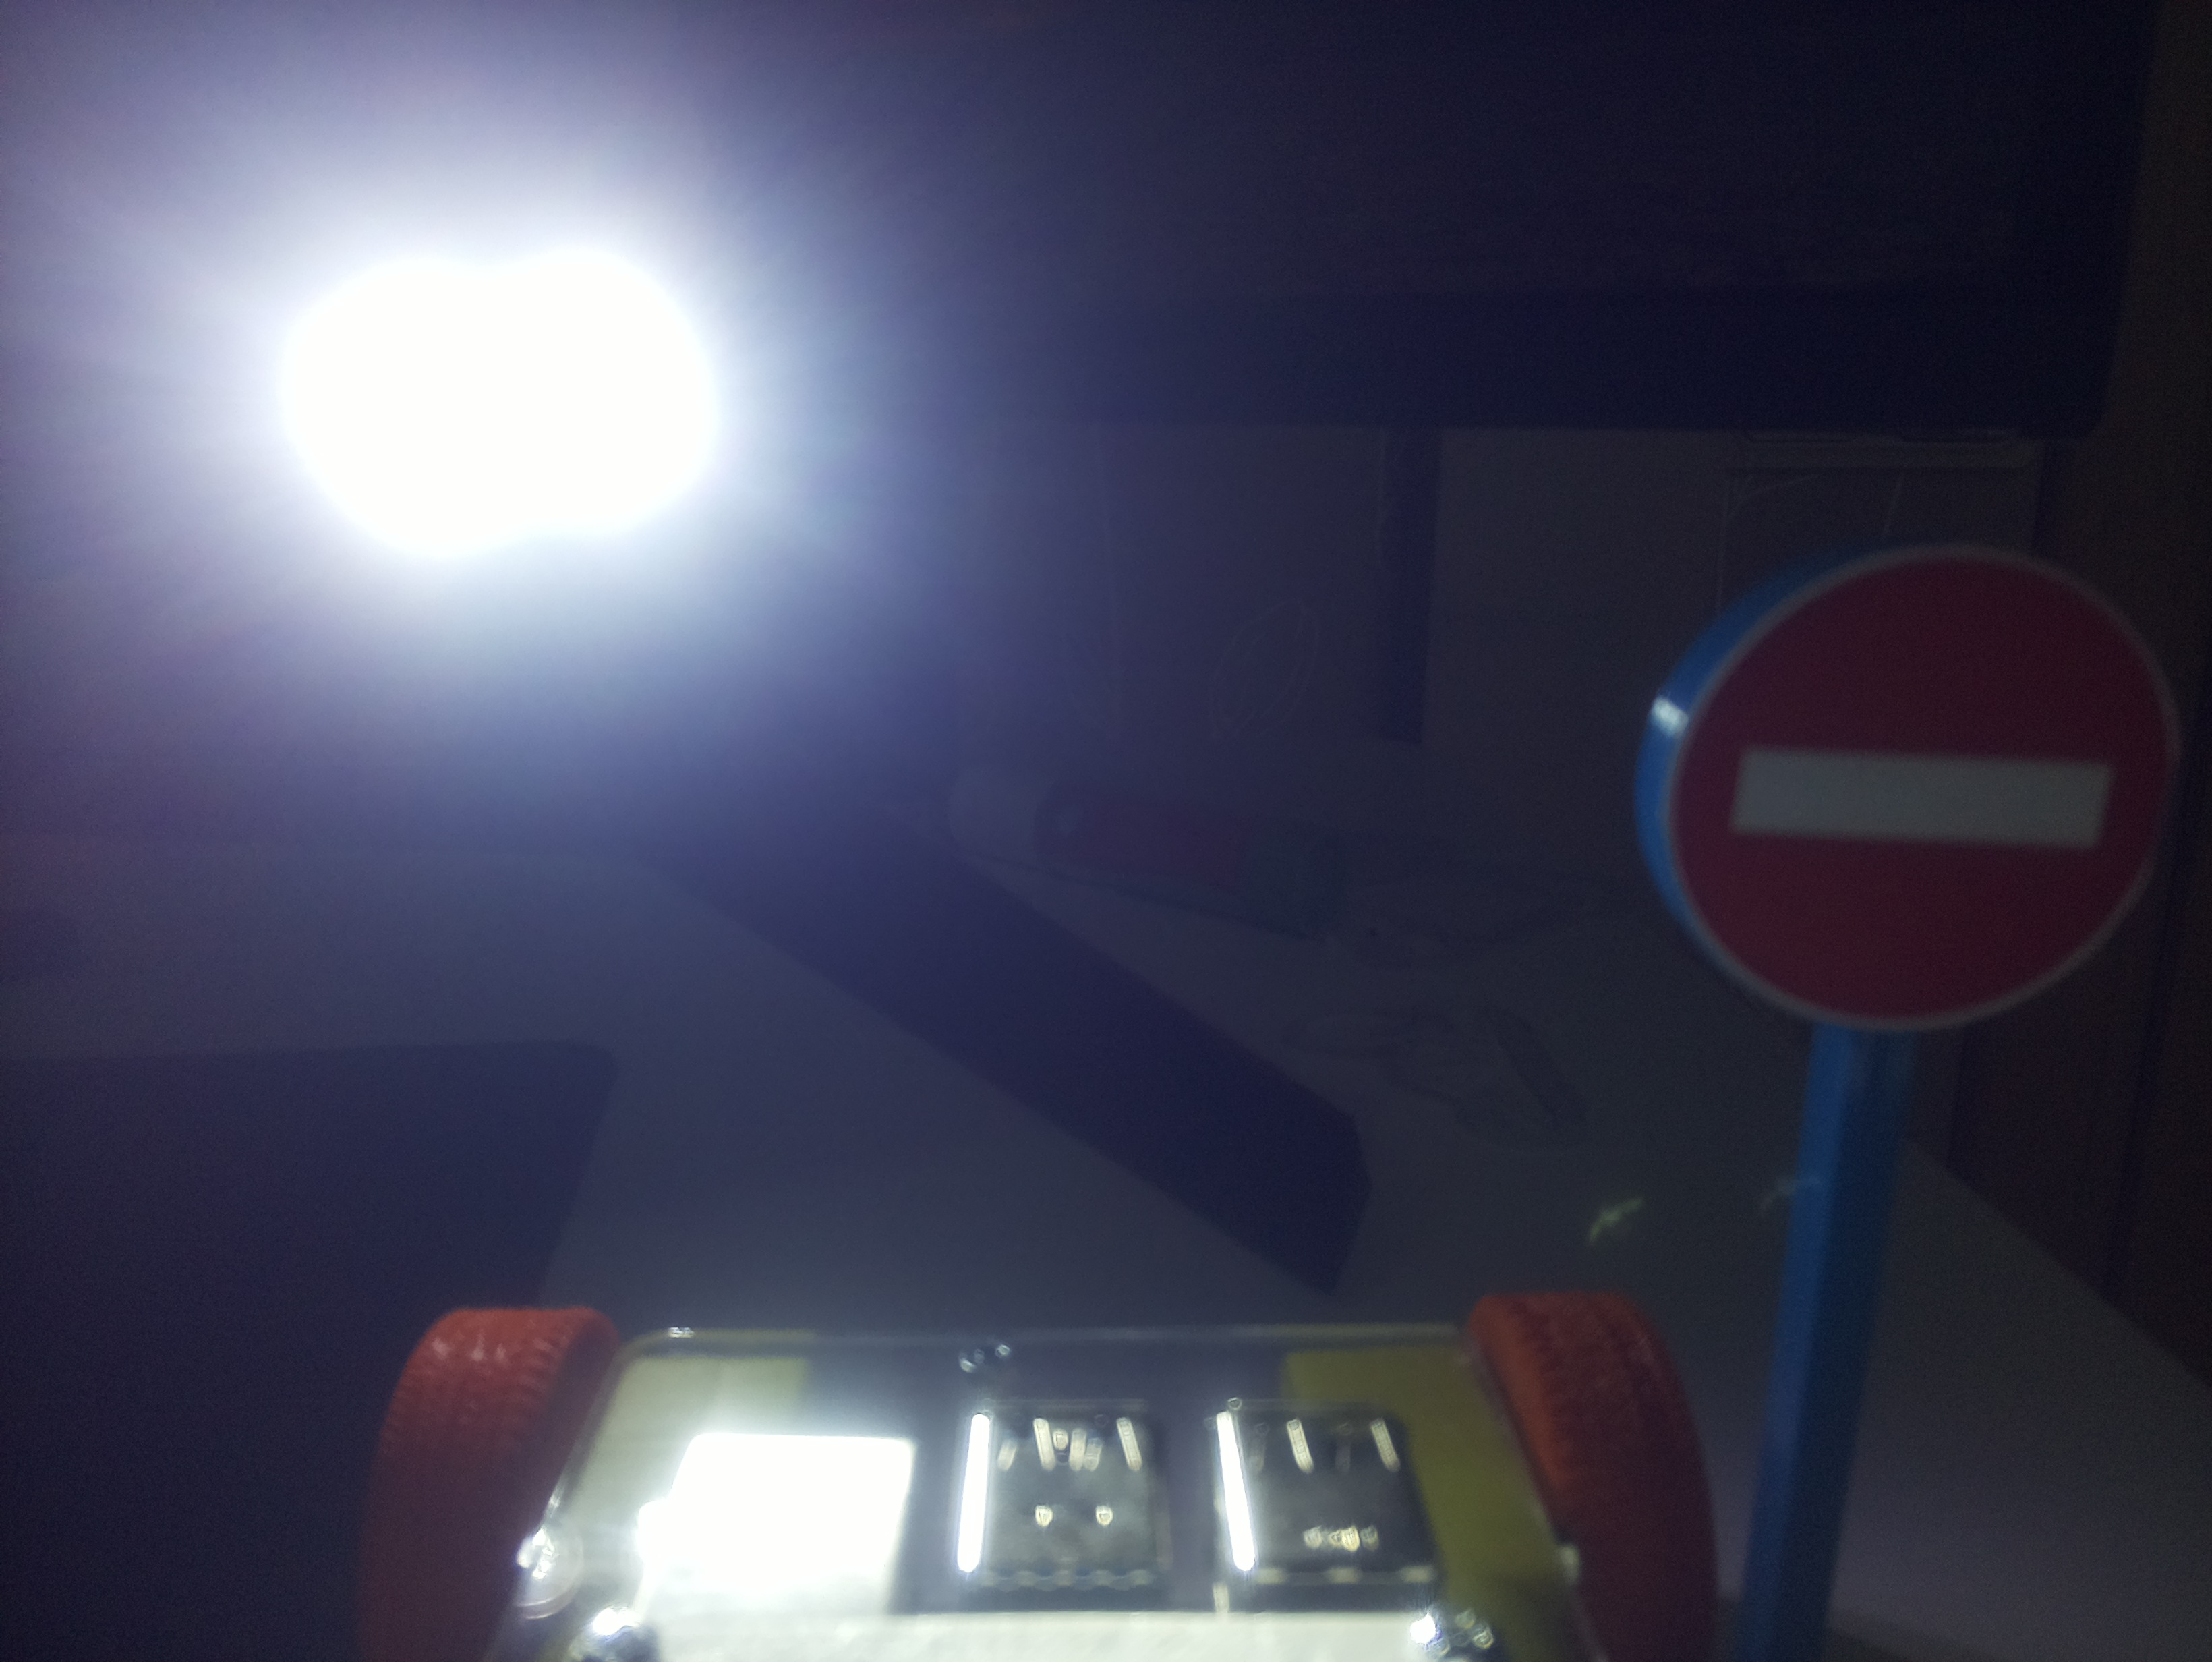brick: (1666, 541, 2203, 1034)
